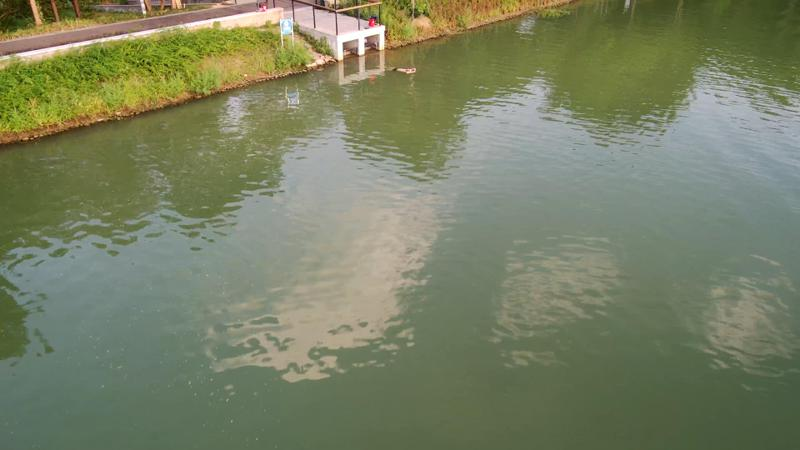swimmers: (388, 65, 417, 75)
